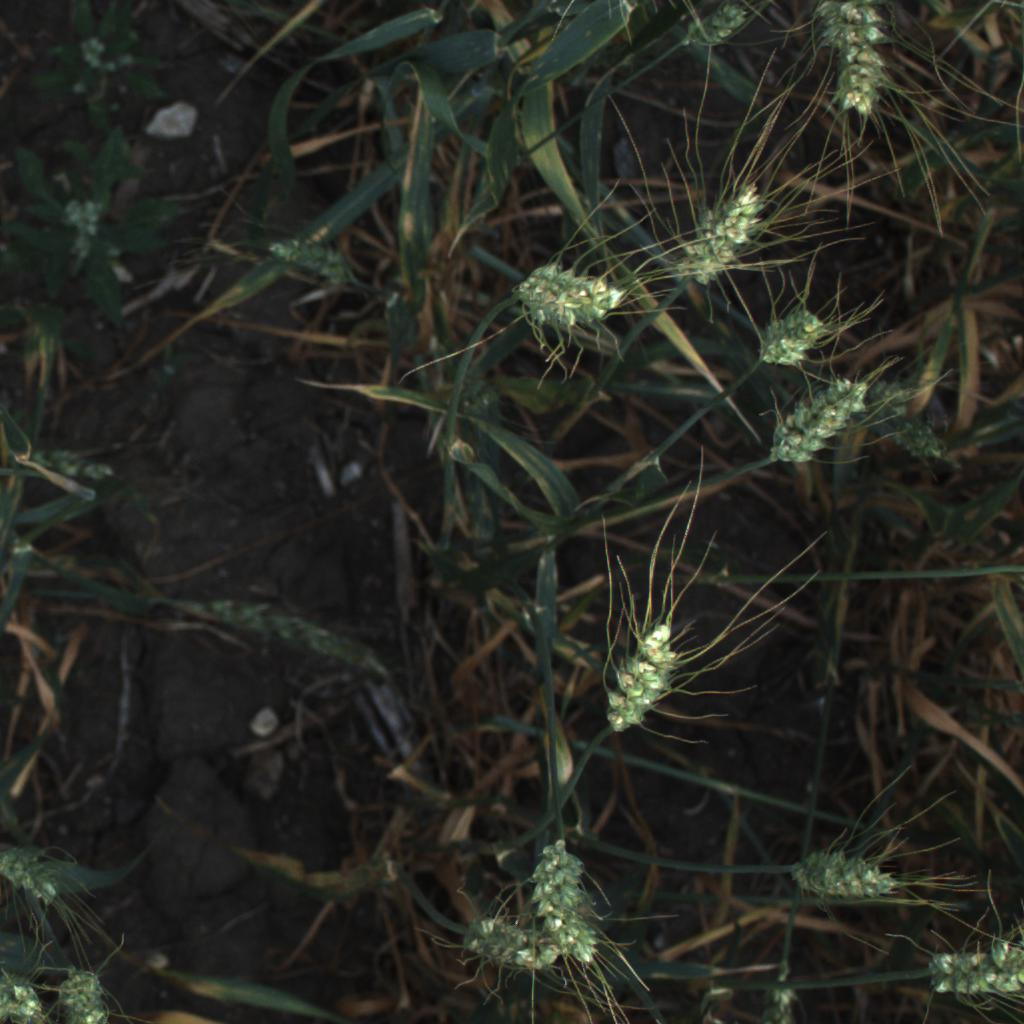0-0: (520, 808, 609, 988), (196, 596, 383, 681), (497, 239, 627, 359), (791, 0, 908, 130), (670, 167, 780, 305), (597, 609, 687, 737), (769, 370, 876, 464), (782, 833, 904, 907), (922, 929, 1024, 1012), (461, 908, 565, 982), (757, 289, 837, 374), (673, 0, 764, 57), (0, 835, 67, 909), (265, 235, 358, 288), (52, 956, 119, 1024), (2, 967, 61, 1024), (890, 417, 947, 468), (761, 960, 799, 1024), (868, 378, 915, 417)
